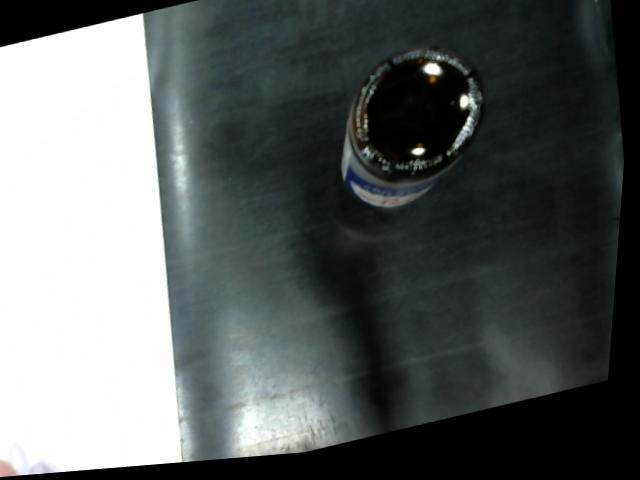glass: (332, 45, 501, 227)
